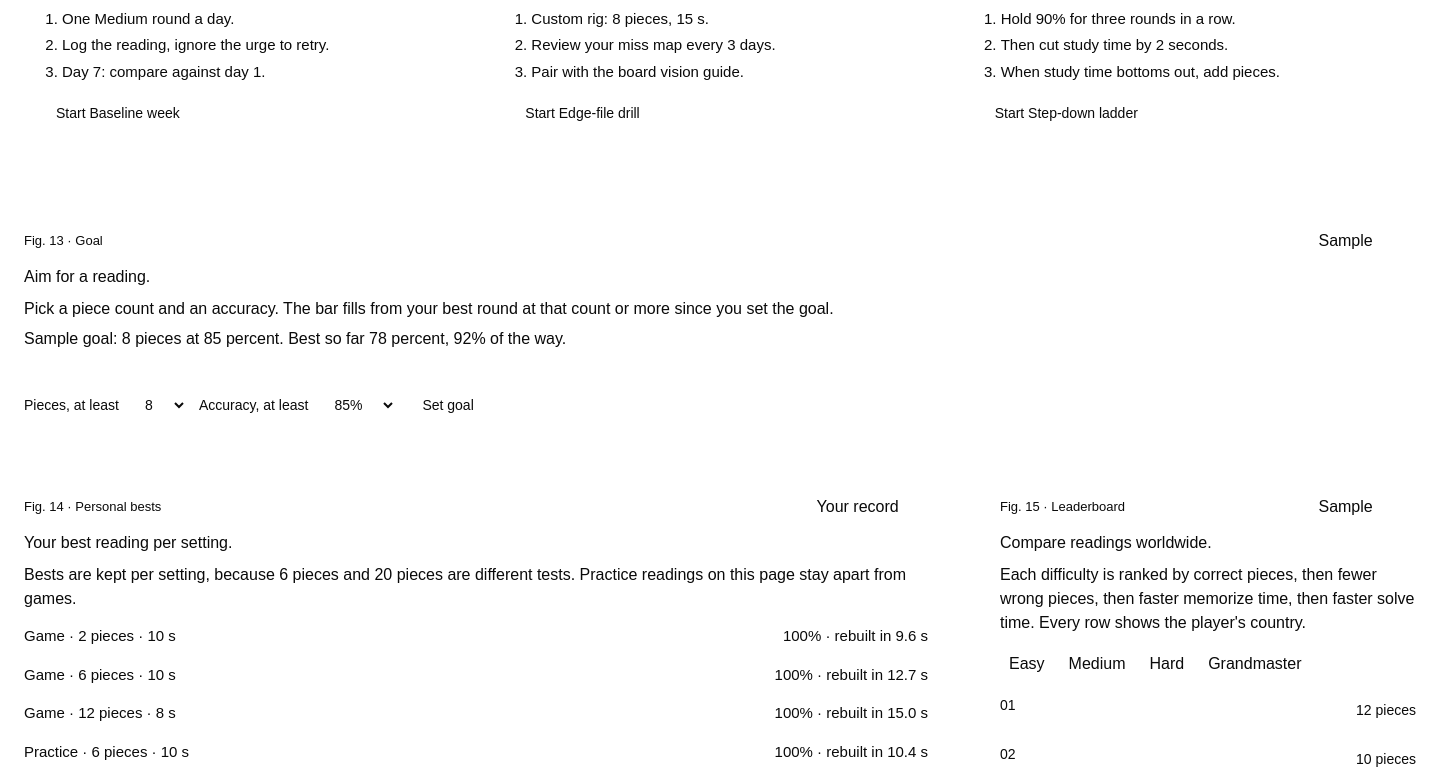
it: the goal › sets a goal from the form and fills its bar from the best round at that count or more since it was set
(page scrolled)
Select "12" in the dropdown labelled "Pieces, at least" at (159, 405), box 131,388 -> 187,422
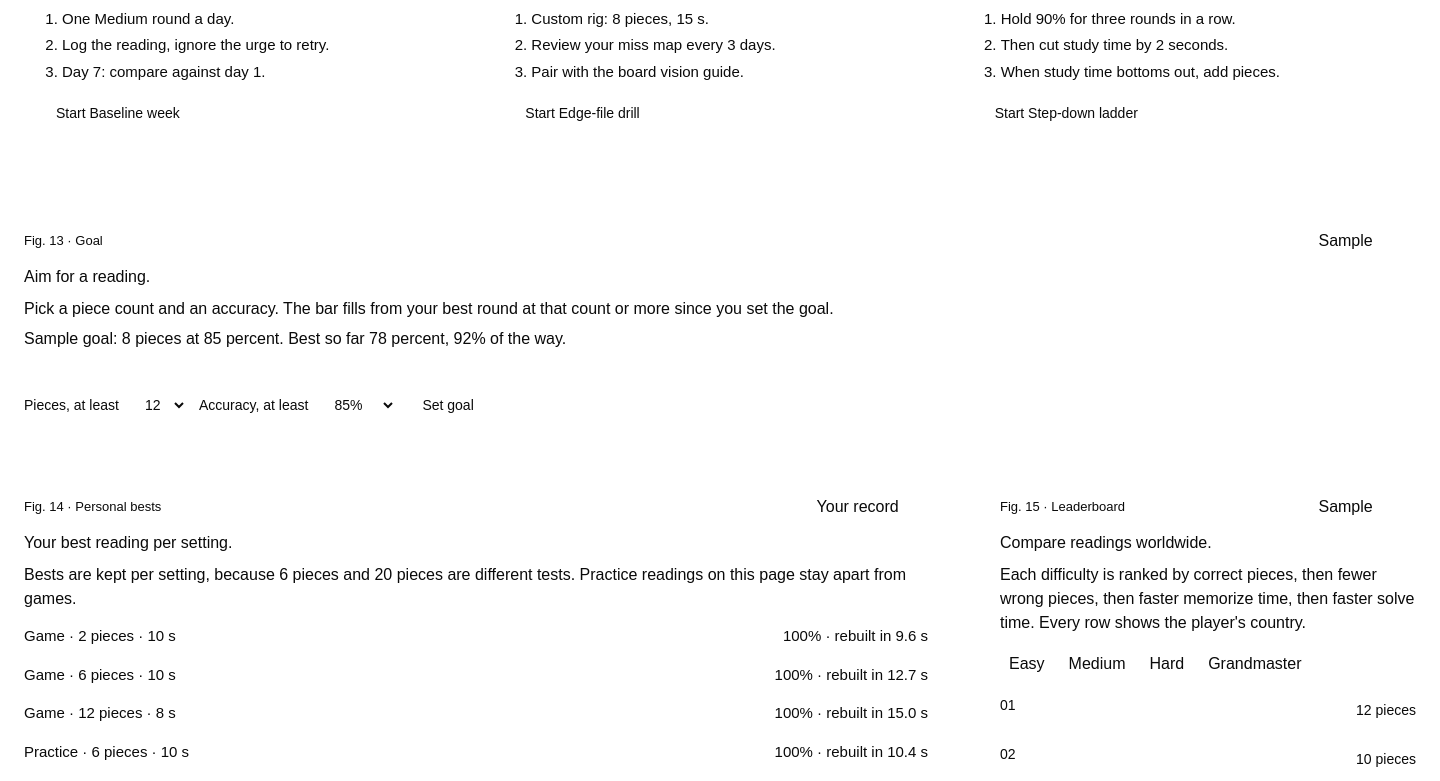
Select "95%" in the dropdown labelled "Accuracy, at least" at (358, 405), box 320,388 -> 396,422
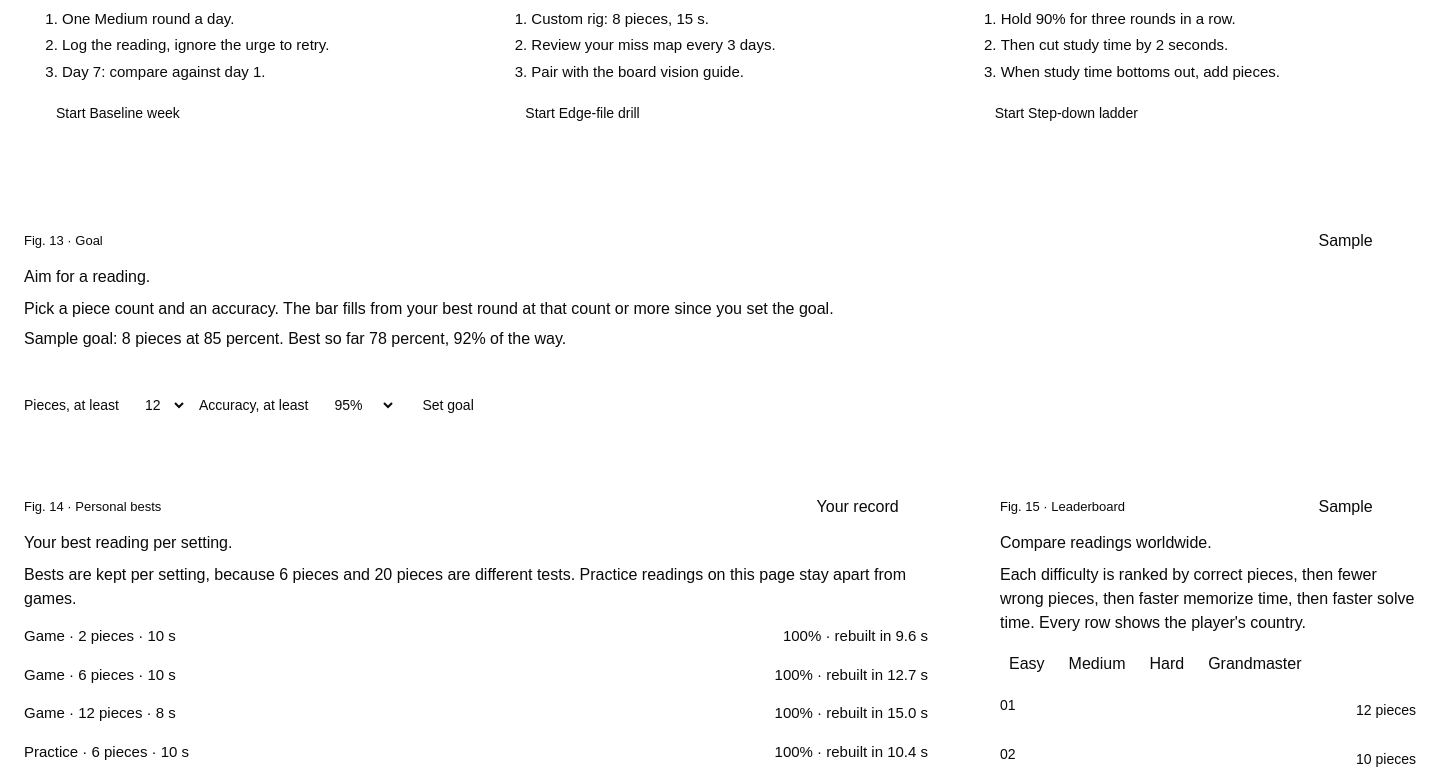
Click the button "Set goal" at (448, 405), box 408,387 -> 488,423
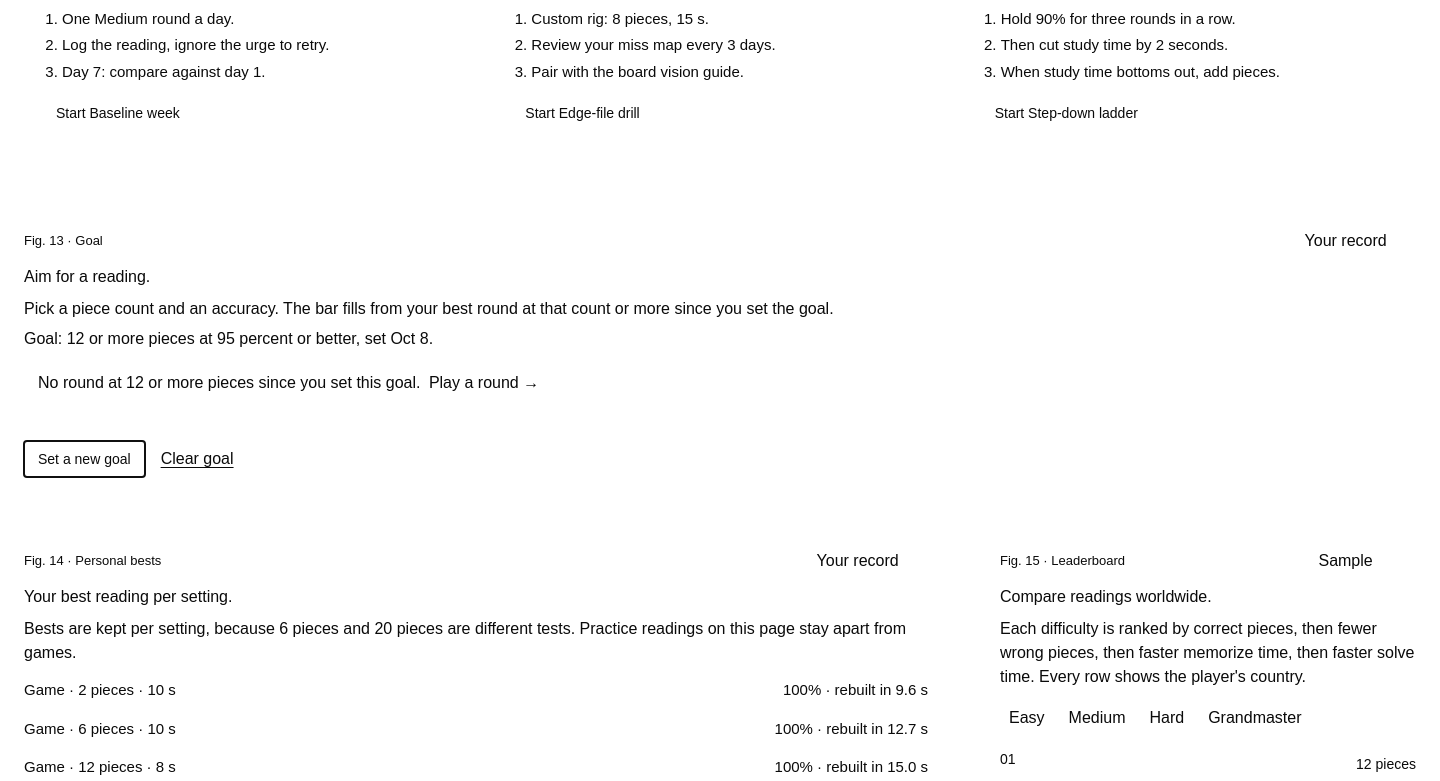
Result: the text "Goal: 12 or more pieces at 95 percent or better, set Oct 8." is shown at 24,330 -> 433,347
Click the button "Set a new goal" at (84, 459), box 24,441 -> 145,477
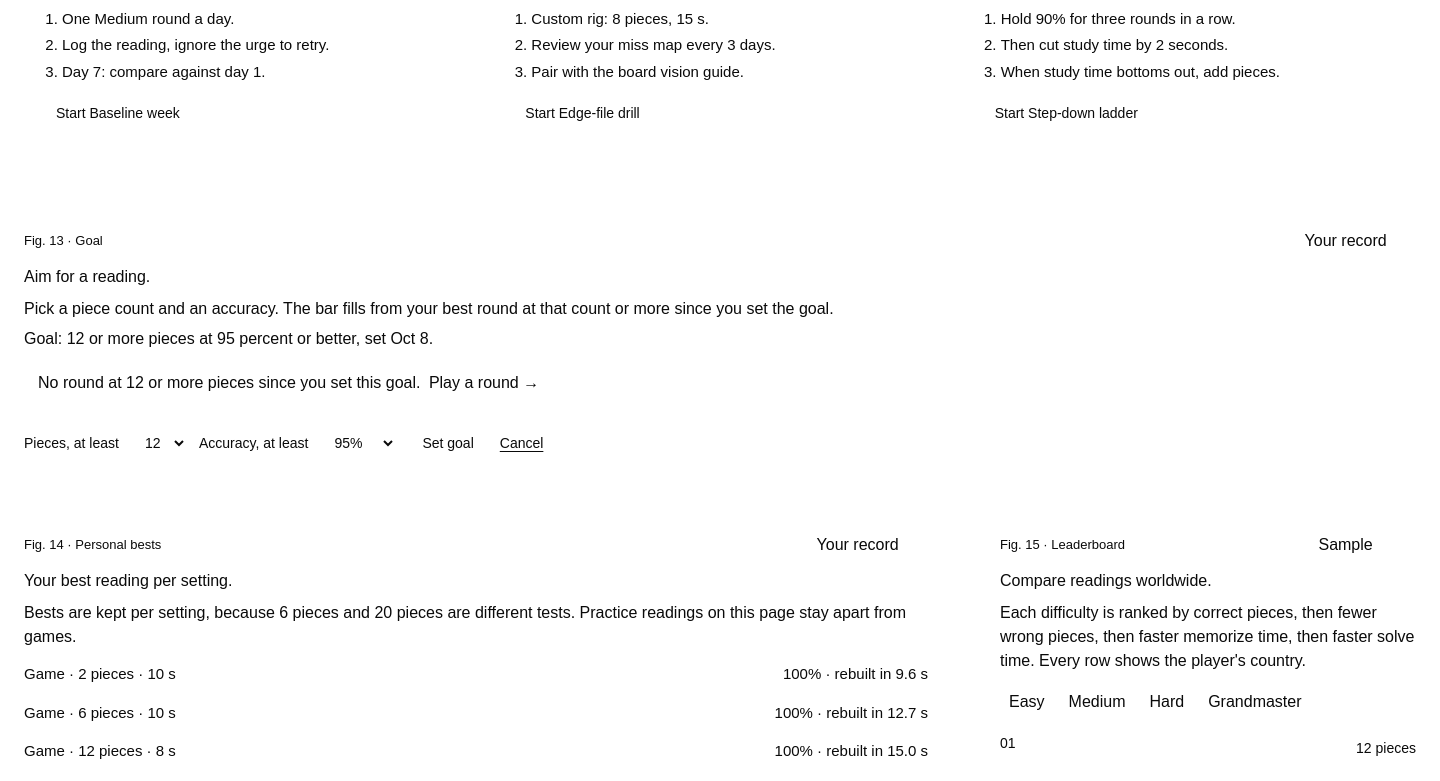
Select "100%" in the dropdown labelled "Accuracy, at least" at (358, 443), box 320,426 -> 396,460
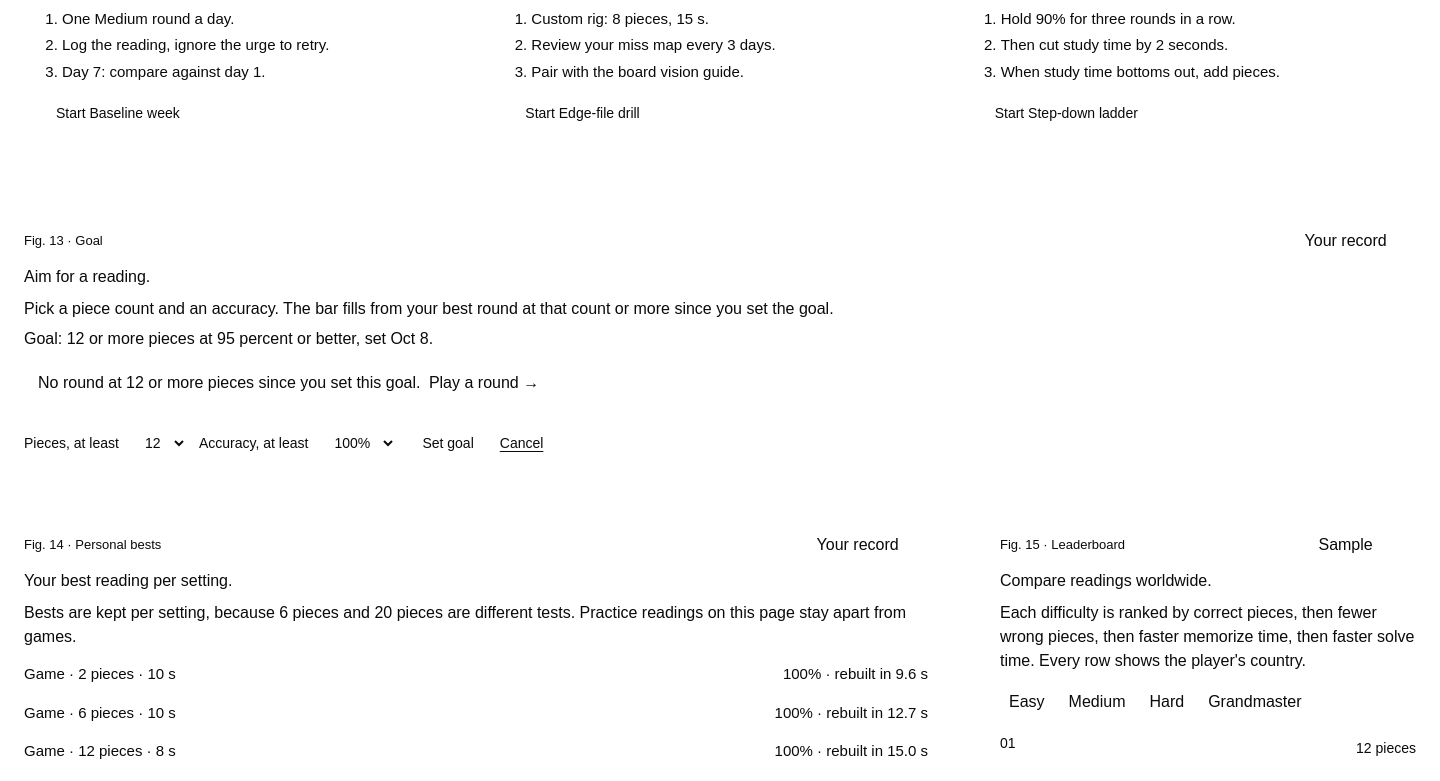
Click the button "Set goal" at (448, 443), box 408,425 -> 488,461
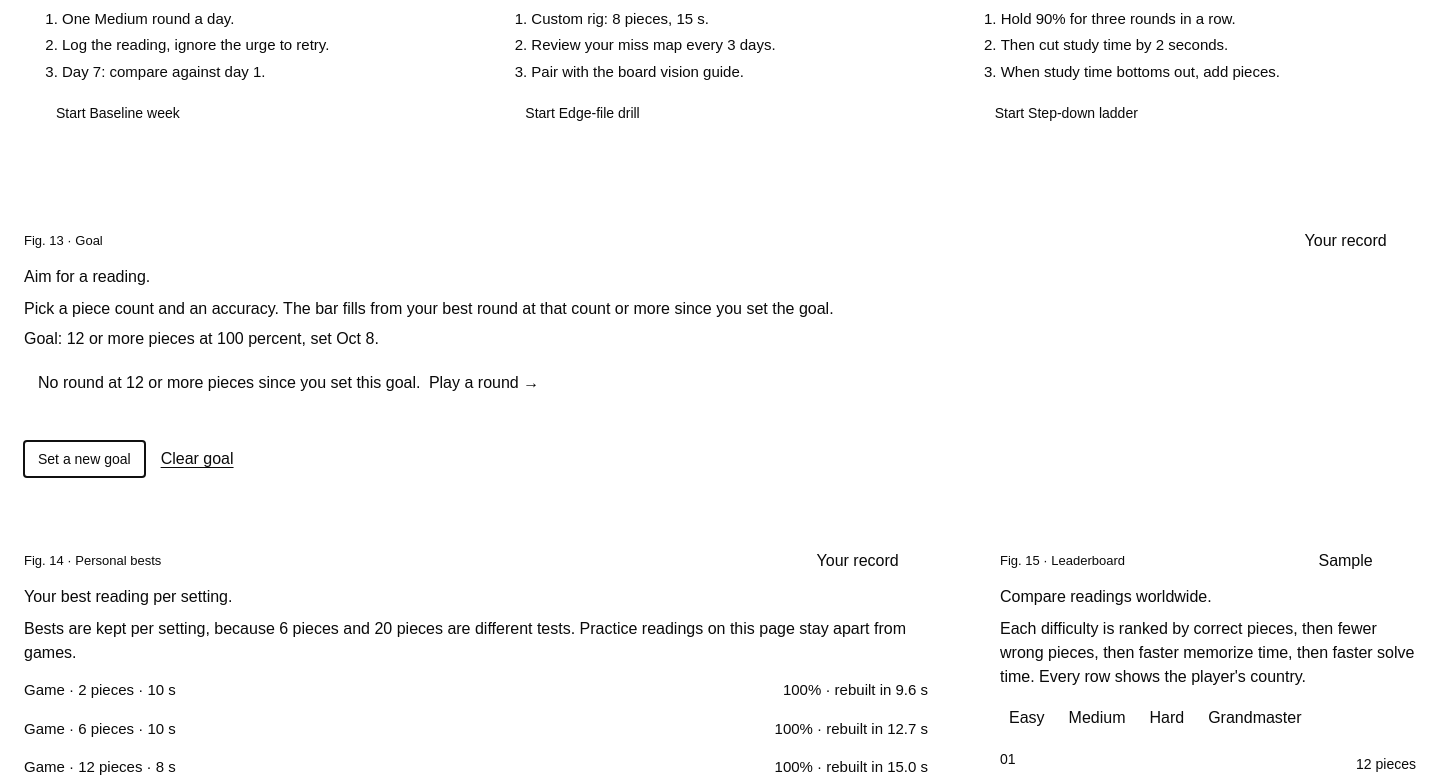
Result: the text "Goal: 12 or more pieces at 100 percent, set Oct 8." is shown at 24,330 -> 379,347
